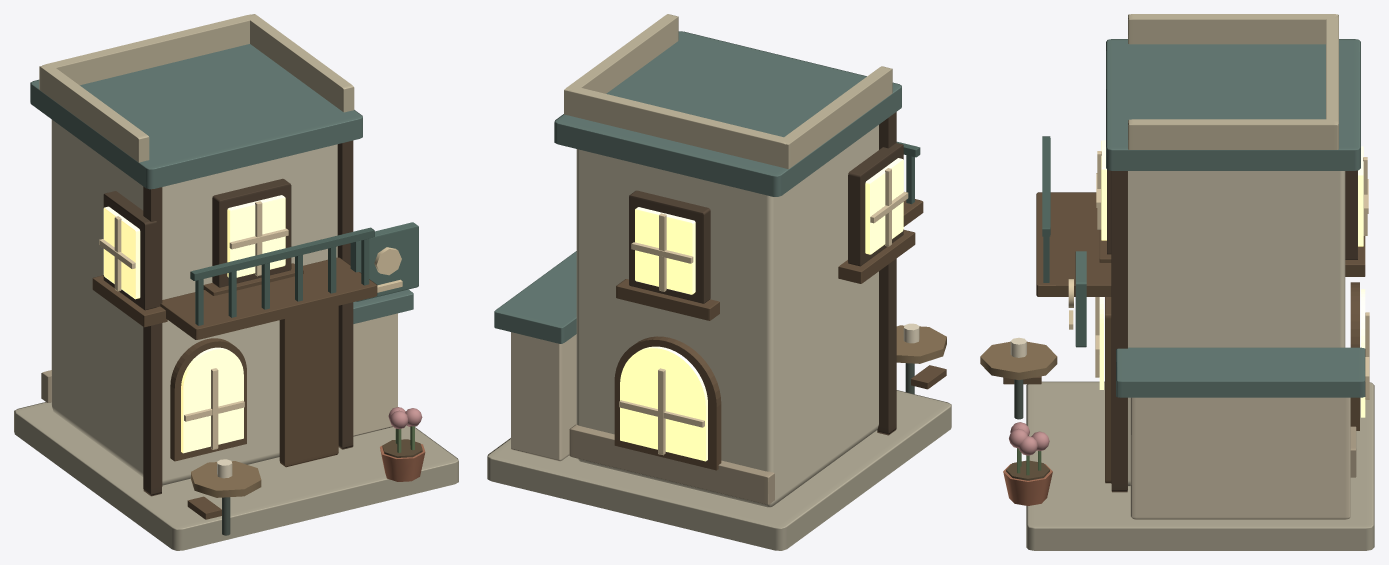
File: cafe-0.glb
The picture shows the model from 3 angles, left to right: view 1: azimuth 30°, elevation 25°; view 2: azimuth 150°, elevation 25°; view 3: azimuth 270°, elevation 25°; orthographic projection. The views are drawn at different scales.
Parts seen in each view (by area): view 1: cafe-0-0; view 2: cafe-0-0; view 3: cafe-0-0.
Part boxes in pixels (x1,y1,x2,y2): cafe-0-0: (14,14,458,550); cafe-0-0: (487,14,951,550); cafe-0-0: (980,14,1374,550).
Size of the model in its own units: 1.9 by 2.38 by 2.15.
